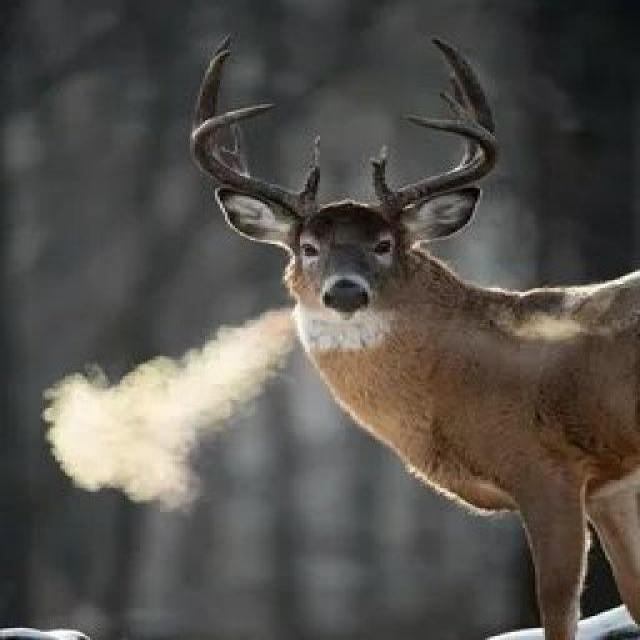deer: (124, 84, 640, 532)
